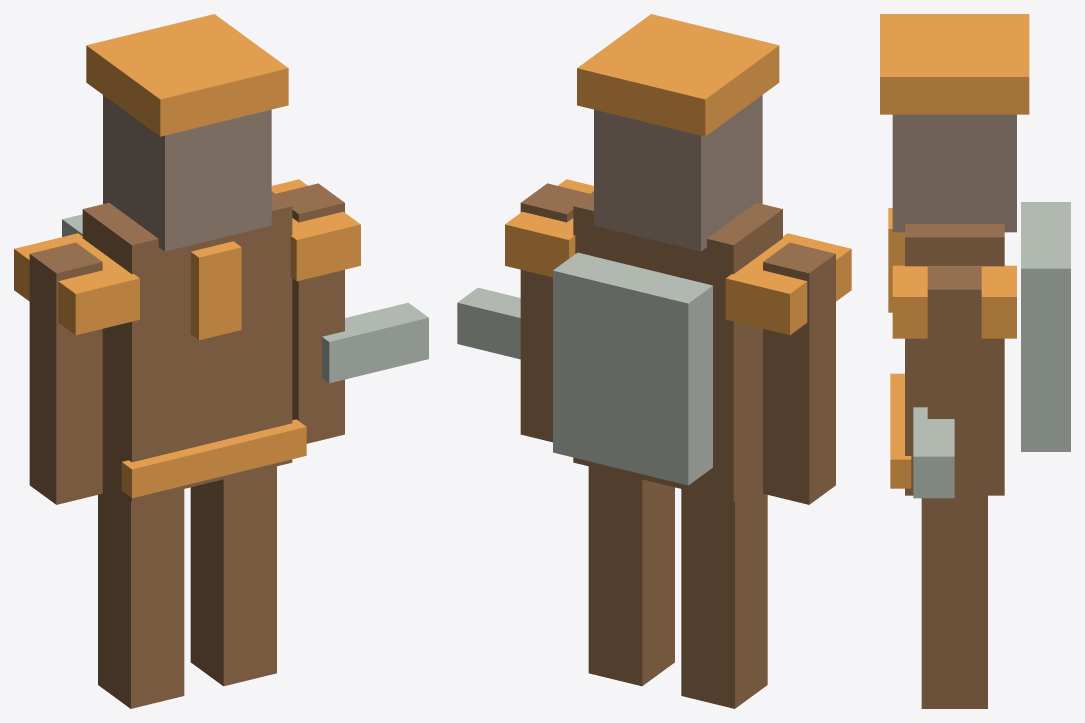
File: 18_quill_ironwake_marshal_near_redcliff.glb
3 renders of one model, left to right at view 1: azimuth 30°, elevation 25°; view 2: azimuth 150°, elevation 25°; view 3: azimuth 270°, elevation 25°, orthographic.
Visible parts, largest first — view 1: Quill Ironwake, Marshal near Redcliff; view 2: Quill Ironwake, Marshal near Redcliff; view 3: Quill Ironwake, Marshal near Redcliff.
Boxes of the visible parts, x1,y1,x2,y2 form: Quill Ironwake, Marshal near Redcliff: (14, 14, 428, 708); Quill Ironwake, Marshal near Redcliff: (457, 14, 851, 708); Quill Ironwake, Marshal near Redcliff: (880, 14, 1070, 708).
Size of the model in its own units: 1.02 by 1.67 by 0.4595.
